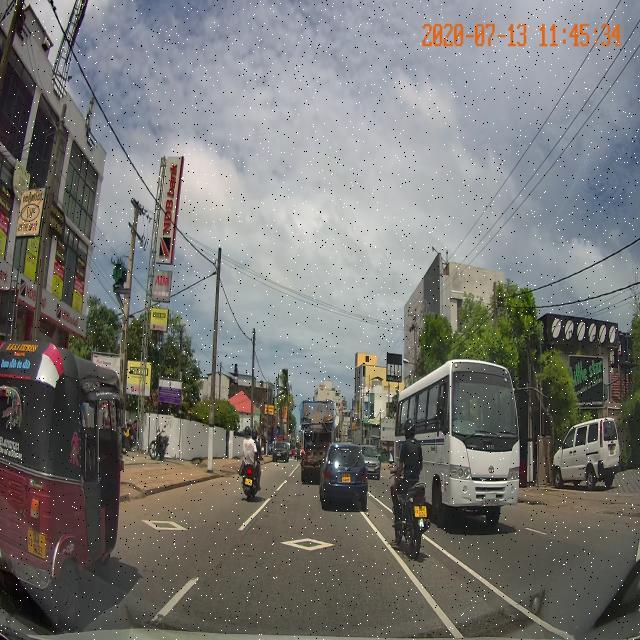diamond: (204, 524, 419, 575)
